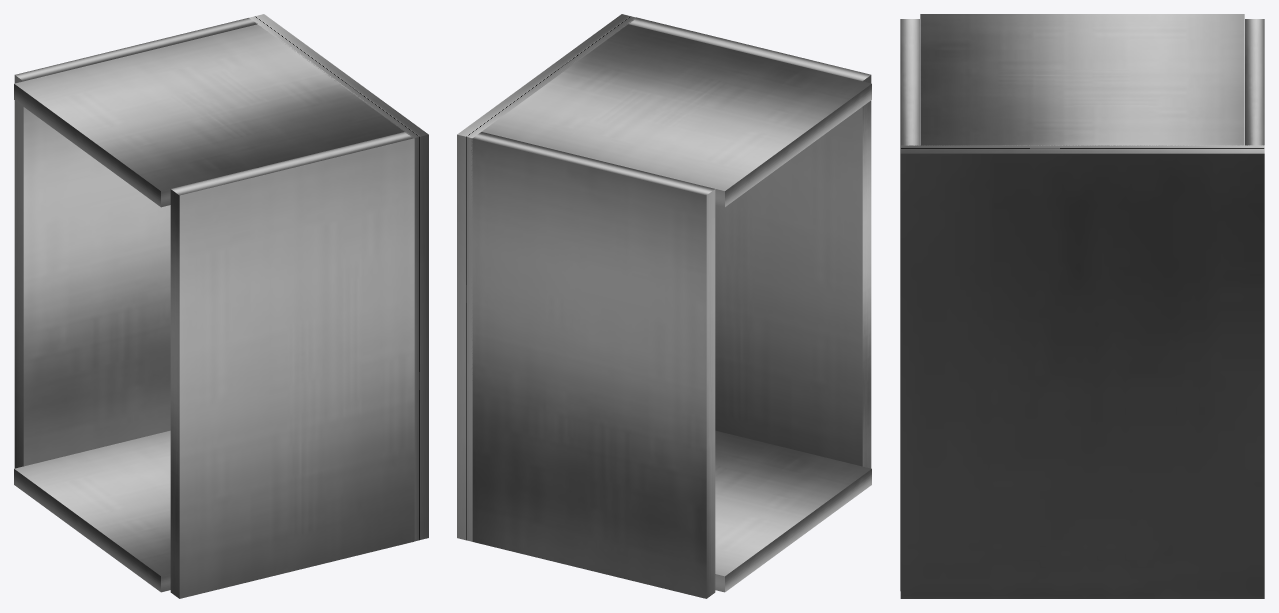
Rendered from ascensor.obj.
The picture shows the model from 3 angles, left to right: view 1: azimuth 30°, elevation 25°; view 2: azimuth 150°, elevation 25°; view 3: azimuth 270°, elevation 25°; orthographic projection. The views are drawn at different scales.
Visible parts, largest first — view 1: ascensor:ascensor; view 2: ascensor:ascensor; view 3: ascensor:ascensor.
Boxes of the visible parts, <box> form: ascensor:ascensor: <box>14,14,428,598</box>; ascensor:ascensor: <box>457,14,871,598</box>; ascensor:ascensor: <box>900,14,1264,598</box>.
Size of the model in its own units: 1.01 by 1.5 by 1.11.
Materials: 1 (1 with a texture image).
